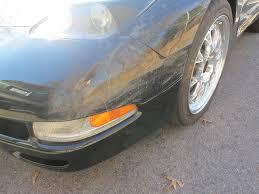front-bumper-dent: (119, 0, 192, 90)
